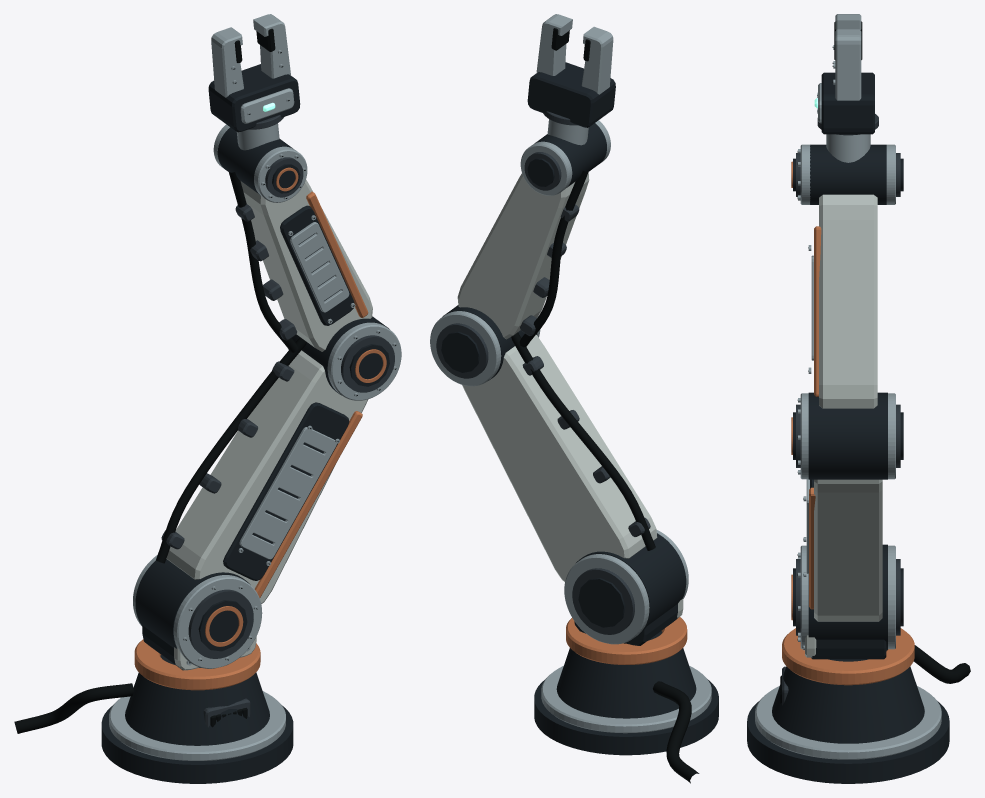
Rendered from robot-arm-full.glb.
The picture shows the model from 3 angles, left to right: view 1: azimuth 30°, elevation 25°; view 2: azimuth 150°, elevation 25°; view 3: azimuth 270°, elevation 25°; orthographic projection. The views are drawn at different scales.
Visible parts, largest first — view 1: robot_shoulder_Powder-coated_cast_aluminum, robot_base_Anodized_graphite_chassis, robot_shoulder_Anodized_graphite_chassis, robot_shoulder_Satin_machined_titanium, robot_elbow_Powder-coated_cast_aluminum, robot_elbow_Satin_machined_titanium, robot_wrist_Anodized_graphite_chassis, robot_base_Satin_machined_titanium, robot_elbow_Anodized_graphite_chassis, robot_wrist_Satin_machined_titanium, robot_waist_Satin_copper_busbar, robot_shoulder_Black_oxide_steel (+9 smaller); view 2: robot_shoulder_Powder-coated_cast_aluminum, robot_base_Anodized_graphite_chassis, robot_elbow_Powder-coated_cast_aluminum, robot_wrist_Anodized_graphite_chassis, robot_shoulder_Anodized_graphite_chassis, robot_base_Satin_machined_titanium, robot_shoulder_Satin_machined_titanium, robot_waist_Satin_copper_busbar, robot_shoulder_Black_oxide_steel, robot_shoulder_Elastomer_cable_and_gasket, robot_elbow_Satin_machined_titanium, robot_wrist_Satin_machined_titanium (+8 smaller); view 3: robot_base_Anodized_graphite_chassis, robot_elbow_Powder-coated_cast_aluminum, robot_shoulder_Powder-coated_cast_aluminum, robot_wrist_Anodized_graphite_chassis, robot_elbow_Anodized_graphite_chassis, robot_base_Satin_machined_titanium, robot_waist_Satin_copper_busbar, robot_shoulder_Anodized_graphite_chassis, robot_wrist_Satin_machined_titanium, robot_shoulder_Satin_machined_titanium, gripper_right_Satin_machined_titanium, robot_elbow_Satin_machined_titanium (+8 smaller).
Part boxes in pixels (x1,y1,x2,y2): robot_shoulder_Powder-coated_cast_aluminum: [166, 350, 368, 603]; robot_base_Anodized_graphite_chassis: [101, 655, 293, 783]; robot_shoulder_Anodized_graphite_chassis: [135, 402, 349, 651]; robot_shoulder_Satin_machined_titanium: [133, 425, 339, 668]; robot_elbow_Powder-coated_cast_aluminum: [240, 179, 372, 351]; robot_elbow_Satin_machined_titanium: [288, 215, 401, 400]; robot_wrist_Anodized_graphite_chassis: [208, 64, 300, 194]; robot_base_Satin_machined_titanium: [109, 691, 285, 760]; robot_elbow_Anodized_graphite_chassis: [280, 205, 389, 395]; robot_wrist_Satin_machined_titanium: [213, 88, 307, 202]; robot_waist_Satin_copper_busbar: [134, 639, 260, 690]; robot_shoulder_Black_oxide_steel: [161, 361, 294, 658]; robot_shoulder_Powder-coated_cast_aluminum: [462, 335, 657, 581]; robot_base_Anodized_graphite_chassis: [534, 631, 718, 755]; robot_elbow_Powder-coated_cast_aluminum: [457, 172, 589, 339]; robot_wrist_Anodized_graphite_chassis: [527, 62, 615, 187]; robot_shoulder_Anodized_graphite_chassis: [576, 533, 686, 639]; robot_base_Satin_machined_titanium: [541, 665, 711, 733]; robot_shoulder_Satin_machined_titanium: [564, 530, 688, 644]; robot_waist_Satin_copper_busbar: [566, 617, 687, 664]; robot_shoulder_Black_oxide_steel: [522, 356, 650, 634]; robot_shoulder_Elastomer_cable_and_gasket: [511, 332, 655, 550]; robot_elbow_Satin_machined_titanium: [430, 311, 540, 386]; robot_wrist_Satin_machined_titanium: [520, 119, 610, 195]; robot_base_Anodized_graphite_chassis: [747, 650, 949, 783]; robot_elbow_Powder-coated_cast_aluminum: [819, 194, 877, 408]; robot_shoulder_Powder-coated_cast_aluminum: [814, 479, 882, 621]; robot_wrist_Anodized_graphite_chassis: [793, 72, 903, 204]; robot_elbow_Anodized_graphite_chassis: [793, 392, 903, 479]; robot_base_Satin_machined_titanium: [755, 686, 941, 759]; robot_waist_Satin_copper_busbar: [782, 628, 914, 685]; robot_shoulder_Anodized_graphite_chassis: [793, 479, 903, 649]; robot_wrist_Satin_machined_titanium: [798, 83, 895, 204]; robot_shoulder_Satin_machined_titanium: [798, 479, 895, 649]; gripper_right_Satin_machined_titanium: [833, 29, 861, 100]; robot_elbow_Satin_machined_titanium: [798, 245, 895, 479].
Size of the model in its own units: 1.62 by 3.51 by 0.9548.
